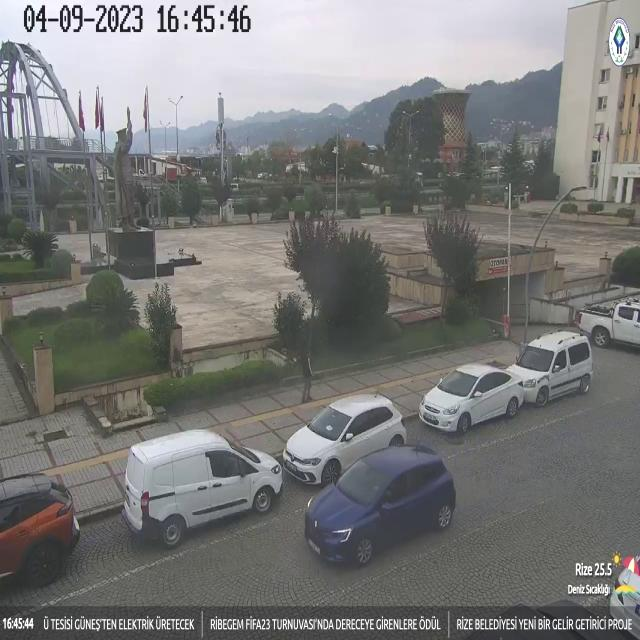Car: (302, 447, 458, 569), (284, 395, 408, 485), (0, 471, 81, 586), (420, 360, 524, 431), (508, 332, 593, 408), (574, 300, 640, 347)
Van: (123, 428, 280, 547)
